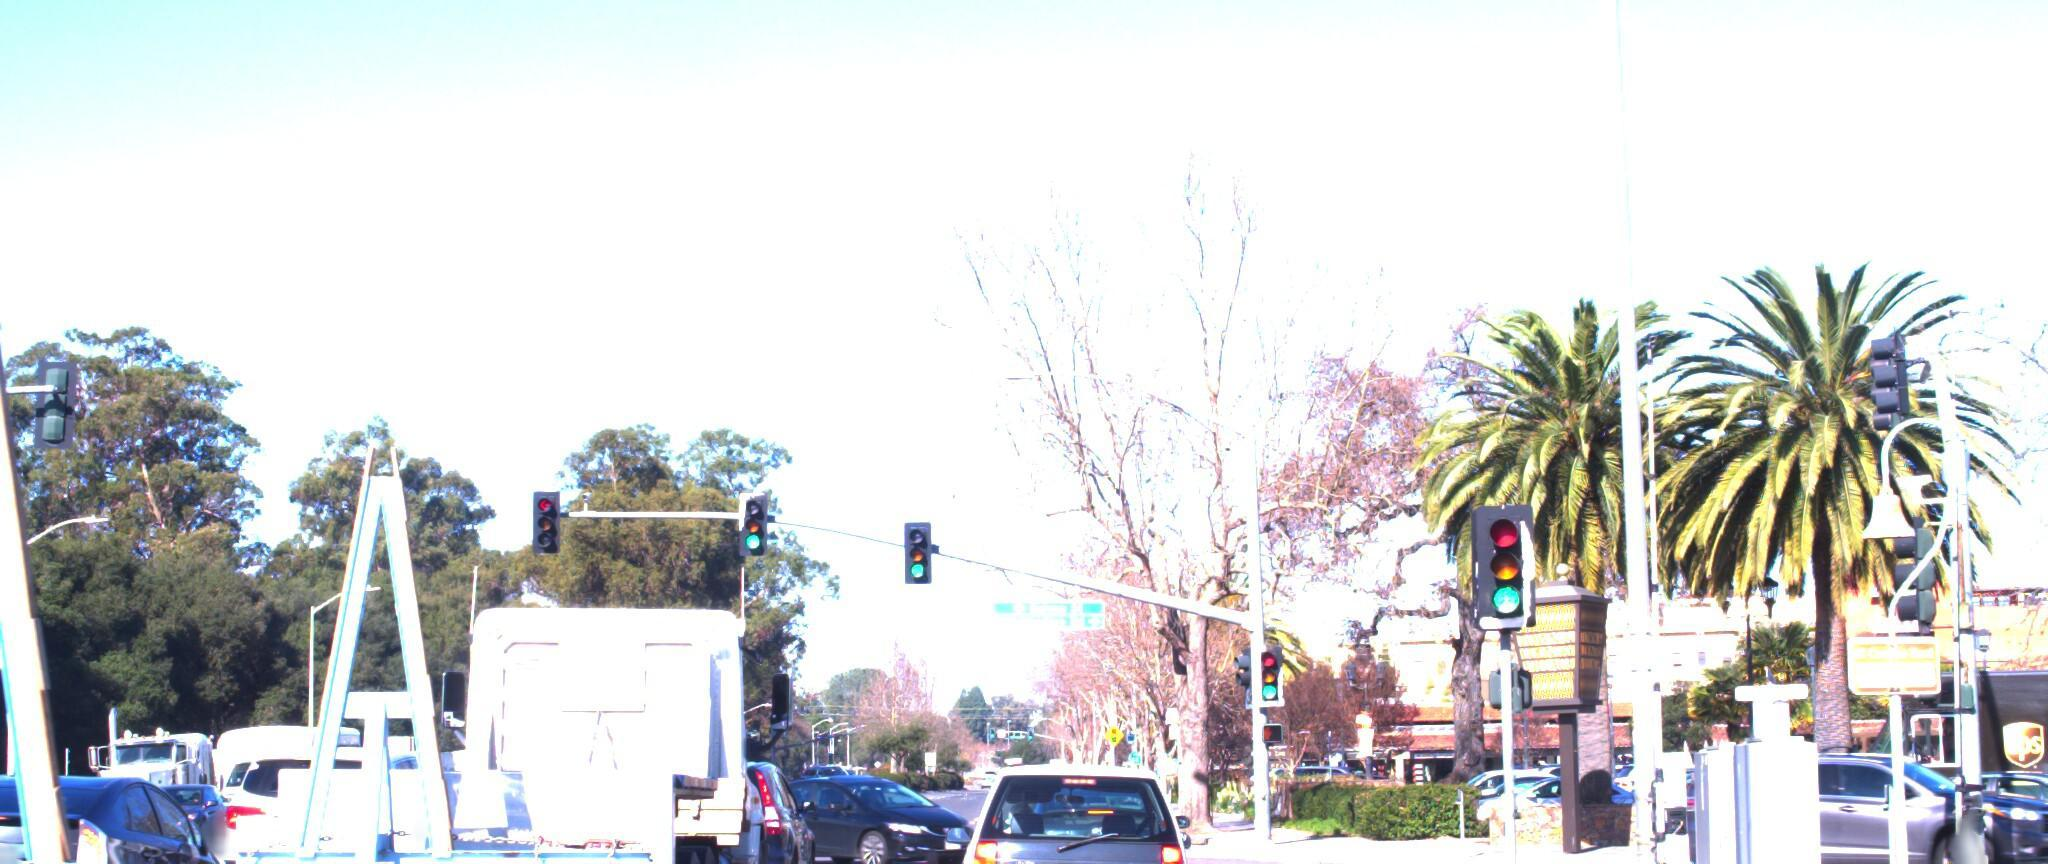bus: (219, 683, 384, 801)
car: (1647, 735, 2041, 864), (217, 727, 466, 864), (0, 739, 264, 864), (1791, 745, 2048, 859), (643, 730, 856, 864), (951, 757, 1209, 864)
truck: (0, 47, 831, 864), (1792, 634, 2048, 859)
